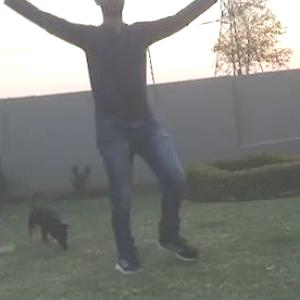takeoff: (2, 0, 224, 243)
